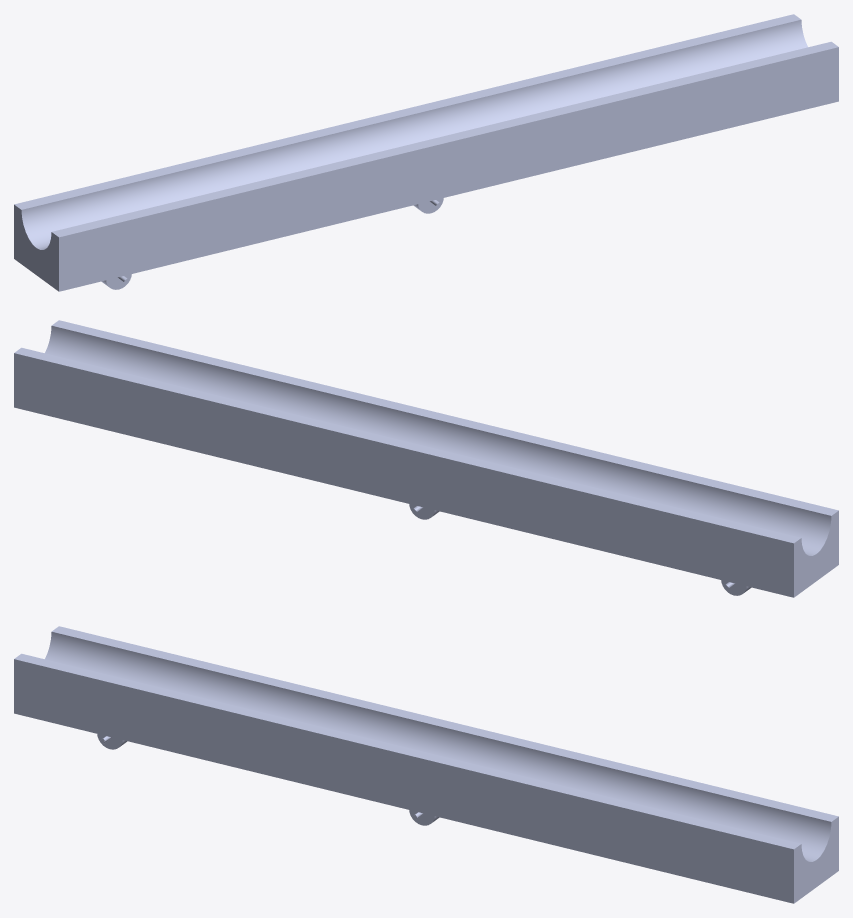
Rendered from beam.obj.
3 views of the same model, one above another, from view 1: azimuth 30°, elevation 25°; view 2: azimuth 150°, elevation 25°; view 3: azimuth 330°, elevation 25° (orthographic).
Visible parts, largest first — view 1: mesh 1 beam; view 2: mesh 1 beam; view 3: mesh 1 beam.
Boxes of the visible parts, box(x1,y1,x2,y2) form: mesh 1 beam: box(14, 14, 838, 291); mesh 1 beam: box(14, 320, 838, 597); mesh 1 beam: box(14, 626, 838, 903).
Bounding box in the file's own units: 0.15 × 0.0155 × 0.015.
